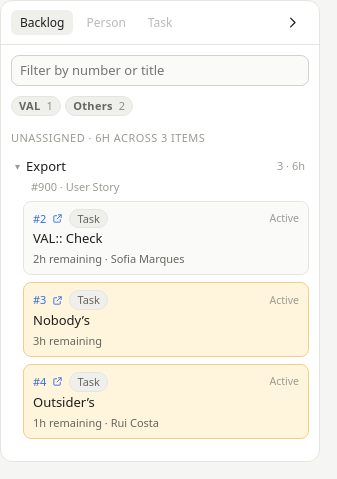
SidePanel › the search box filters the cards
Type "check" into the field named "Filter the backlog".
click(160, 70); type("check")  # box top-left (11, 55), bottom-right (309, 86)
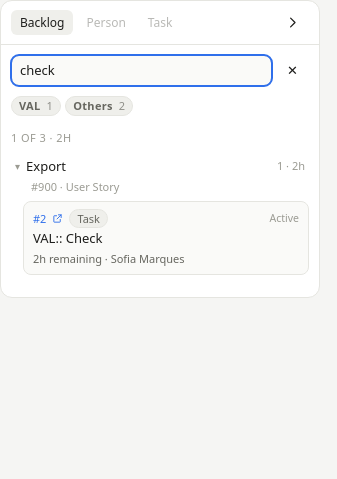
Check: the number of buttons with class "task-card" is 1, box top-left (23, 200), bottom-right (309, 275)
